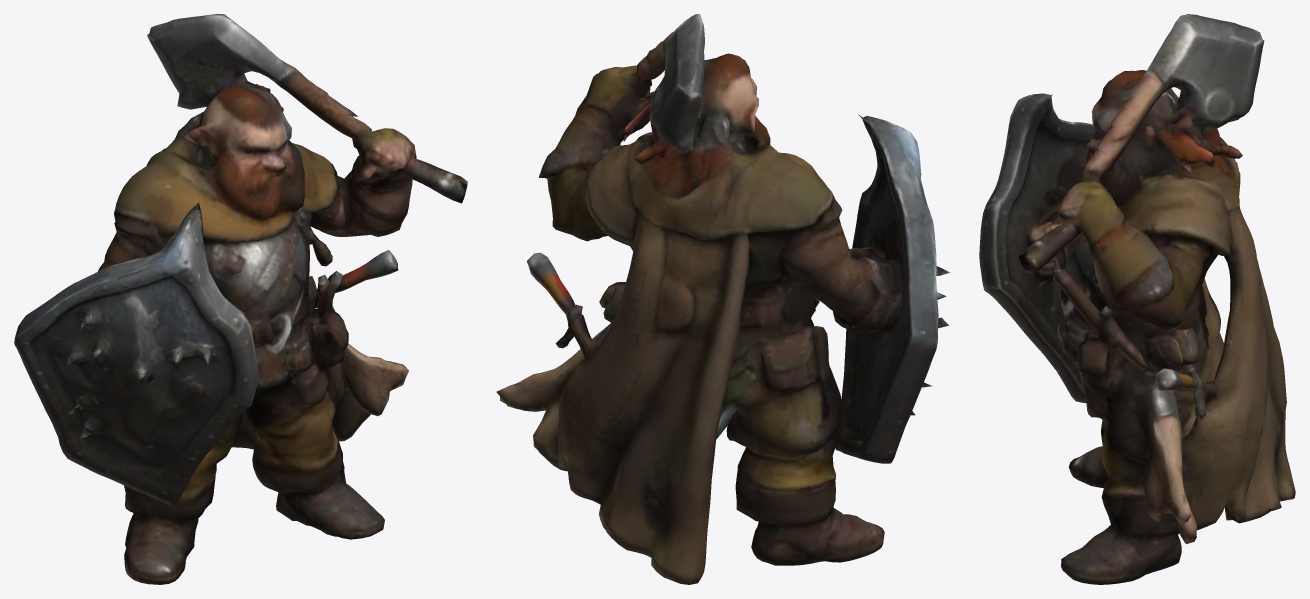
Rendered from dwarfwarrior.glb.
3 views of the same model, side by side, from view 1: azimuth 30°, elevation 25°; view 2: azimuth 150°, elevation 25°; view 3: azimuth 270°, elevation 25° (orthographic). The views are drawn at different scales.
Size of the model in its own units: 1.68 by 2 by 1.12.
1 material, 1 textured.
